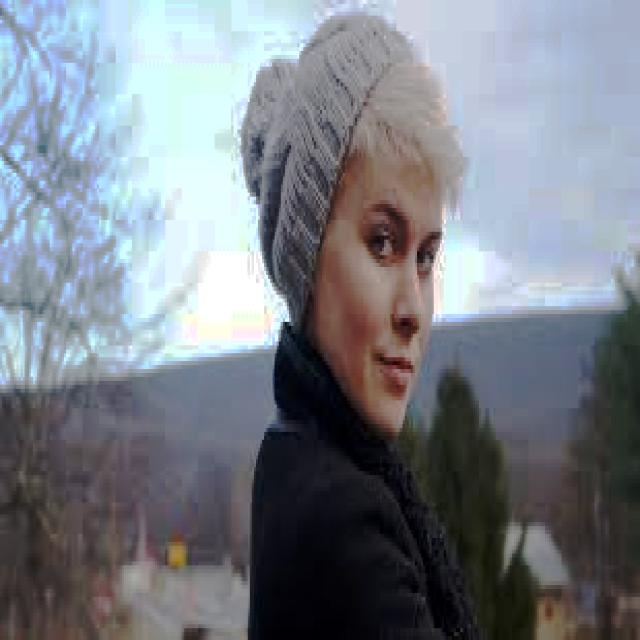TOPI: (233, 0, 415, 338)
